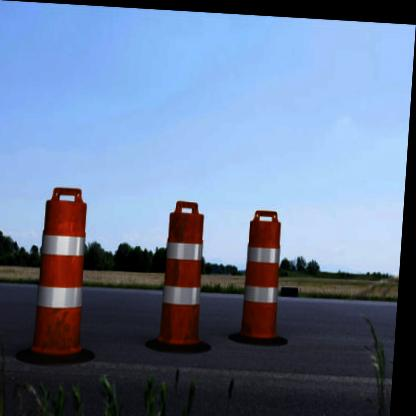obstacle: (33, 183, 97, 359), (159, 197, 210, 343), (239, 201, 290, 337)
